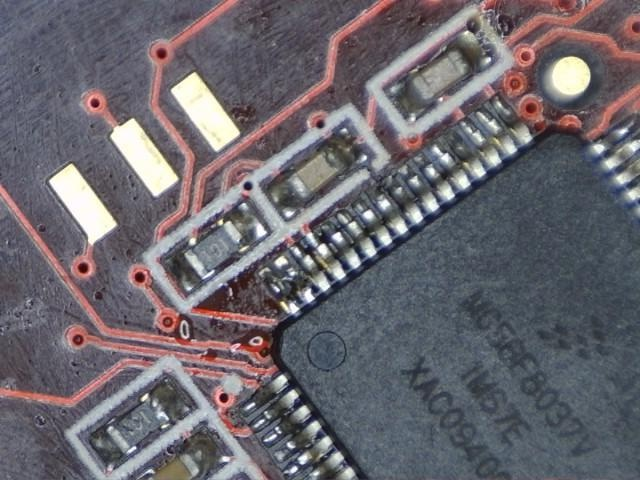pcb_defect: (258, 256, 316, 318)
